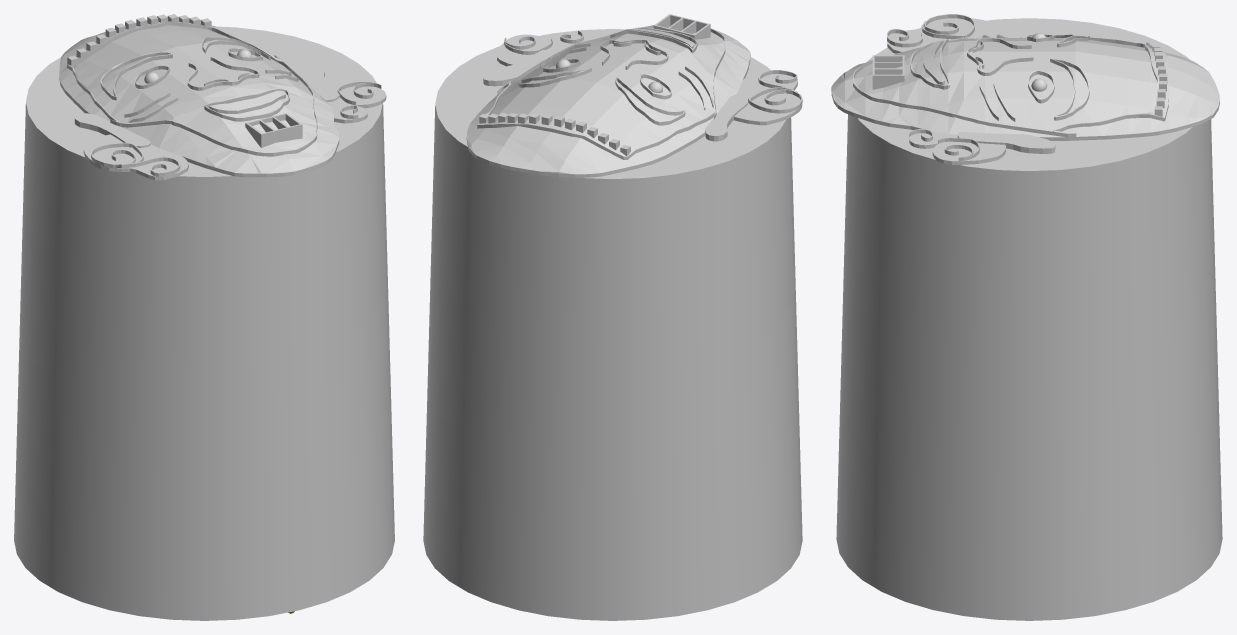
File: kancho.fbx
3 views of the same model, side by side, from view 1: azimuth 30°, elevation 25°; view 2: azimuth 150°, elevation 25°; view 3: azimuth 270°, elevation 25° (orthographic).
Parts seen in each view (by area): view 1: Stand, GoldFace, Outlines, Ear1, Ear2, GoldTop; view 2: Stand, GoldFace, Outlines, Ear1, GoldTop, Ear2; view 3: Stand, GoldFace, Outlines, Ear2, Ear1, GoldTop.
Part boxes in pixels (x1,y1,x2,y2): Stand: (14,26,394,620); GoldFace: (59,23,339,177); Outlines: (67,21,381,176); Ear1: (83,134,188,180); Ear2: (327,77,386,123); GoldTop: (67,14,211,65); Stand: (423,29,802,620); GoldFace: (466,31,750,177); Outlines: (477,14,802,159); Ear1: (734,72,802,125); GoldTop: (479,112,630,155); Ear2: (497,33,588,66); Stand: (836,18,1222,620); GoldFace: (831,38,1219,140); Outlines: (853,14,1168,161); Ear2: (909,131,1005,164); Ear1: (887,18,1002,53); GoldTop: (1146,39,1167,116).
Bounding box in the file's own units: 96 × 137 × 97.25.
